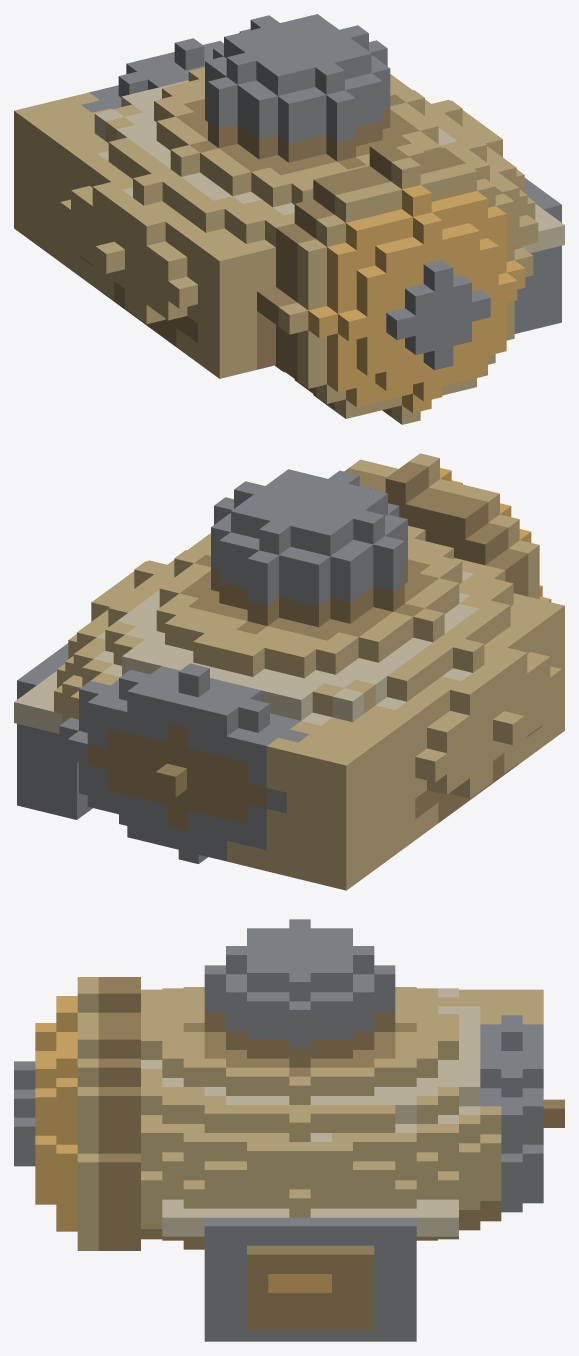
Rendered from nacelle_r.glb.
3 views of the same model, one above another, from view 1: azimuth 30°, elevation 25°; view 2: azimuth 150°, elevation 25°; view 3: azimuth 270°, elevation 25° (orthographic). The views are drawn at different scales.
Size of the model in its own units: 23 by 15 by 26.
